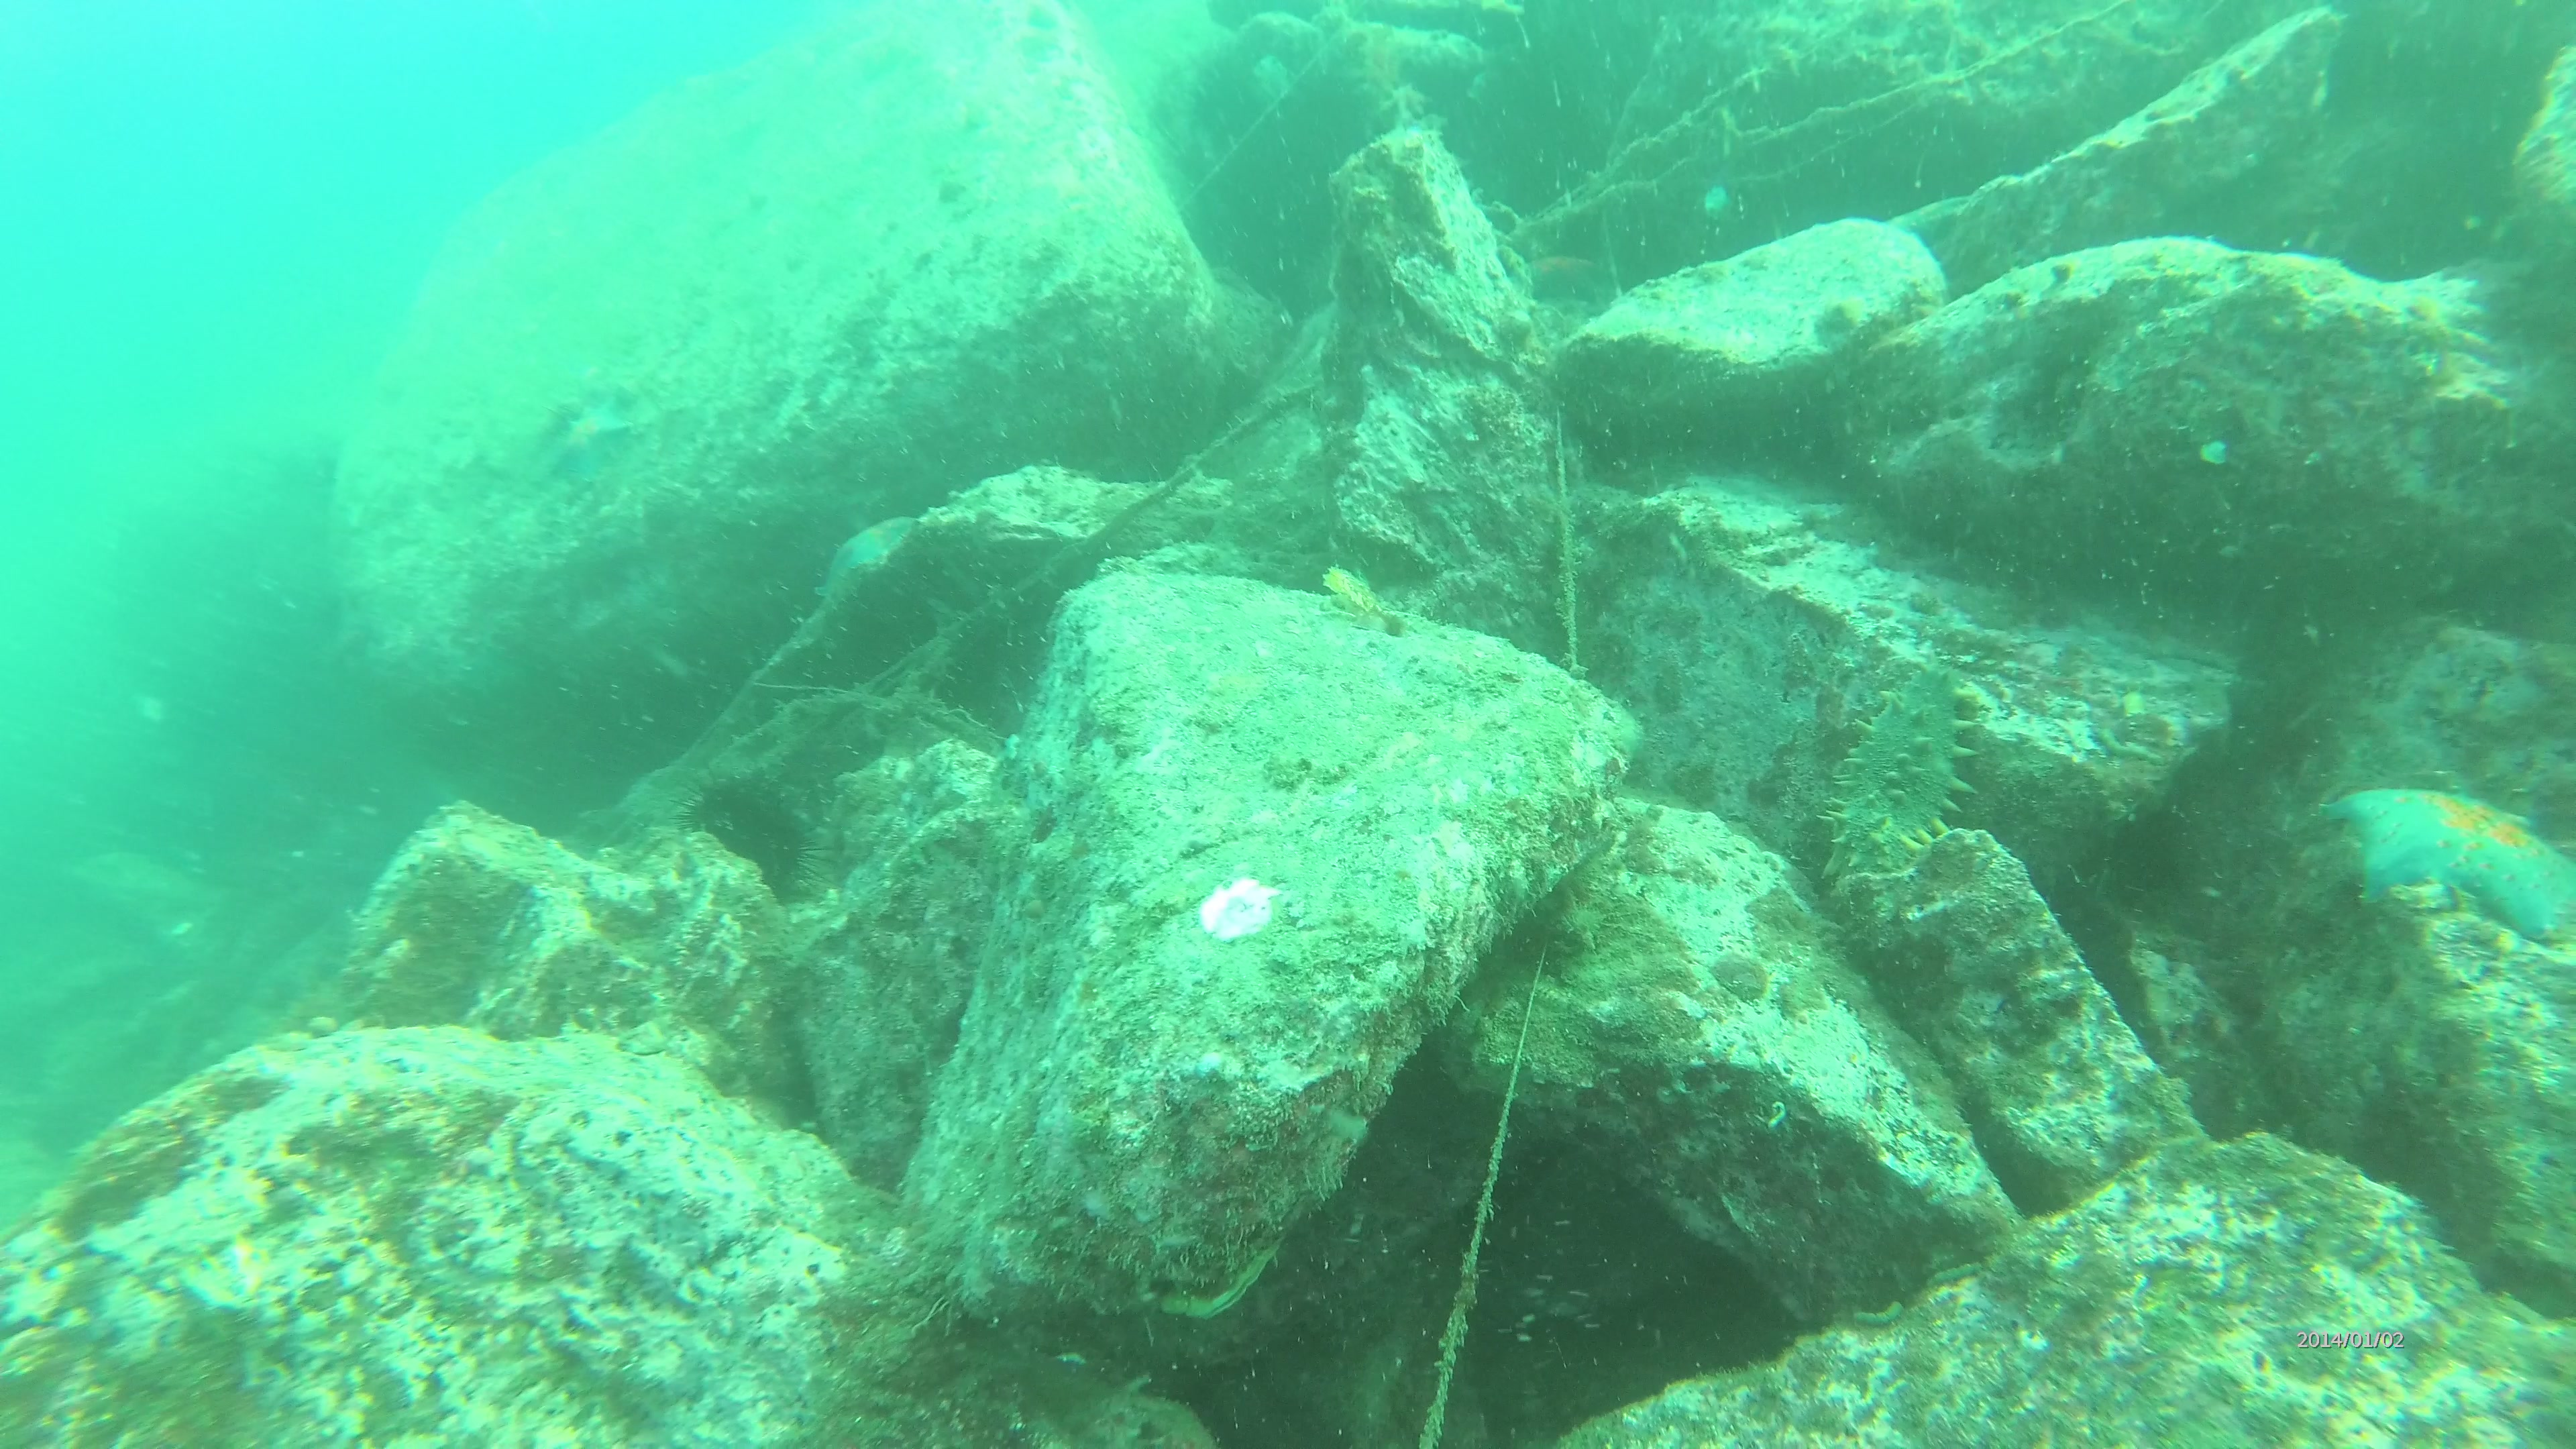echinus: (686, 766, 812, 902)
holothurian: (1828, 651, 1976, 895)
scallop: (177, 1233, 274, 1307), (1198, 876, 1284, 941)
starfish: (2325, 761, 2576, 966), (545, 391, 635, 479), (1502, 244, 1615, 311)
